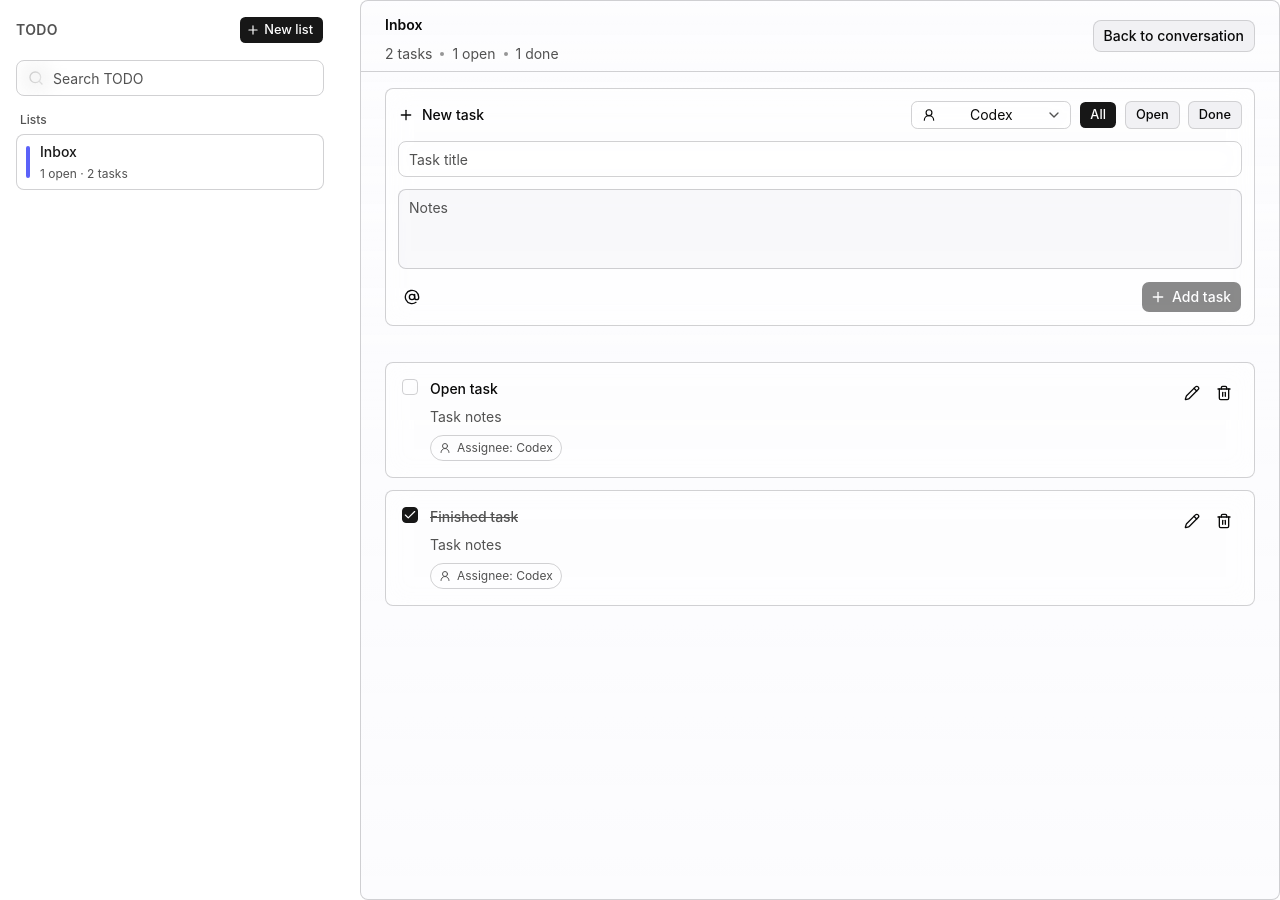
Test: workspace resources UI › creates, filters, and completes TODO items
In the field labelled "Task title": (820, 159) [398,141,1242,177], type "New task"
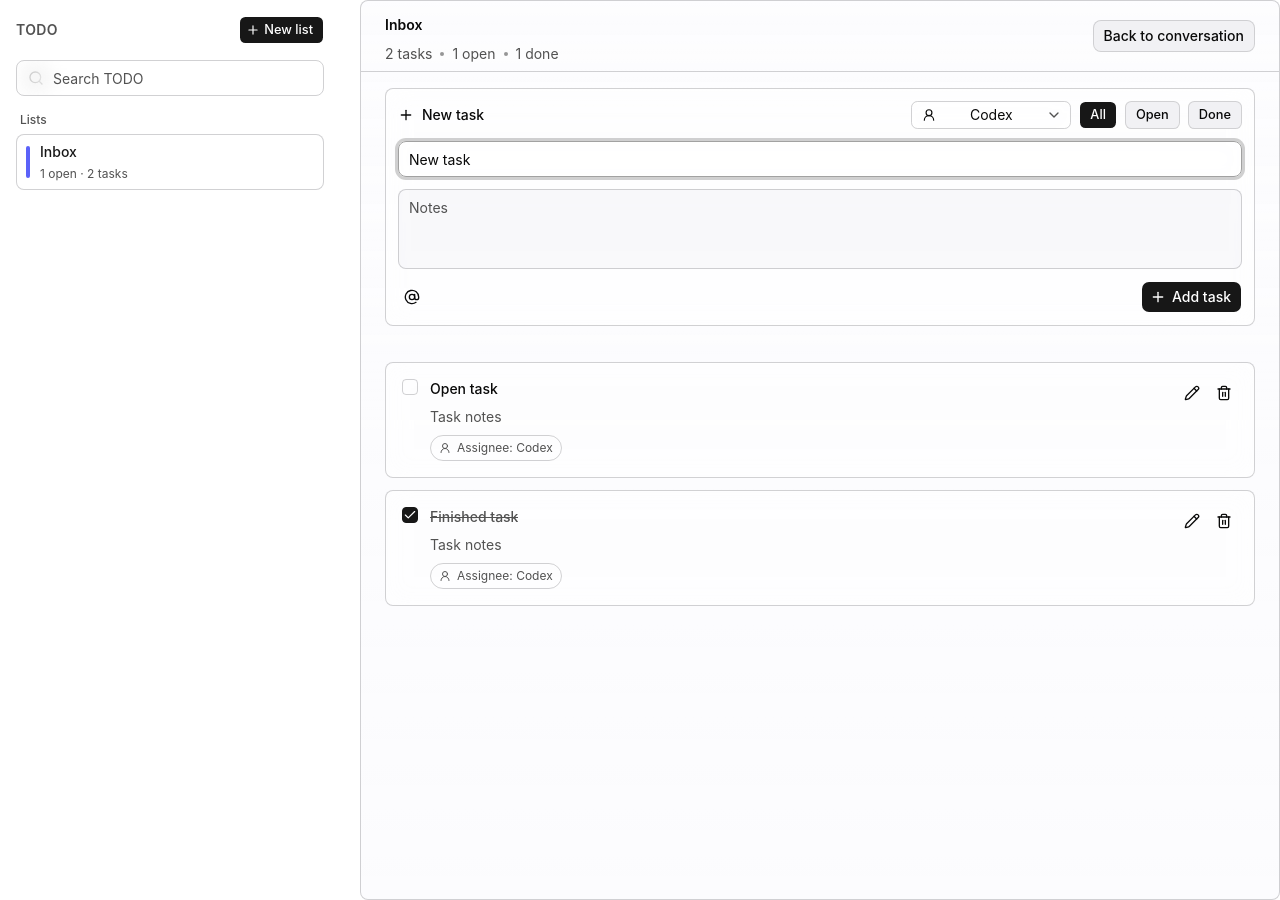
In the text box named "Task notes": (820, 229) [398,189,1242,269], type "New notes"
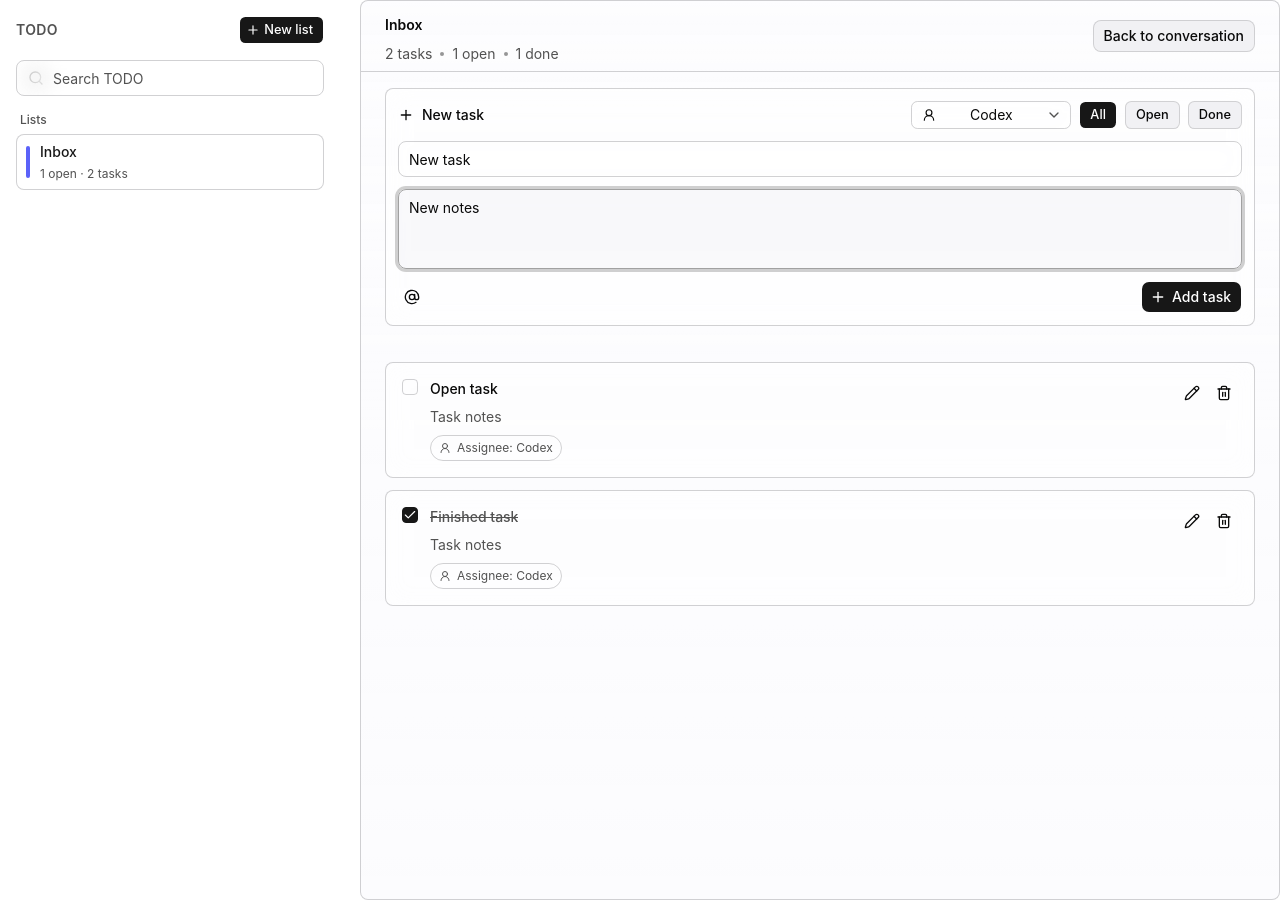
Click the button "Add task": (1192, 297) [1141,281,1242,313]
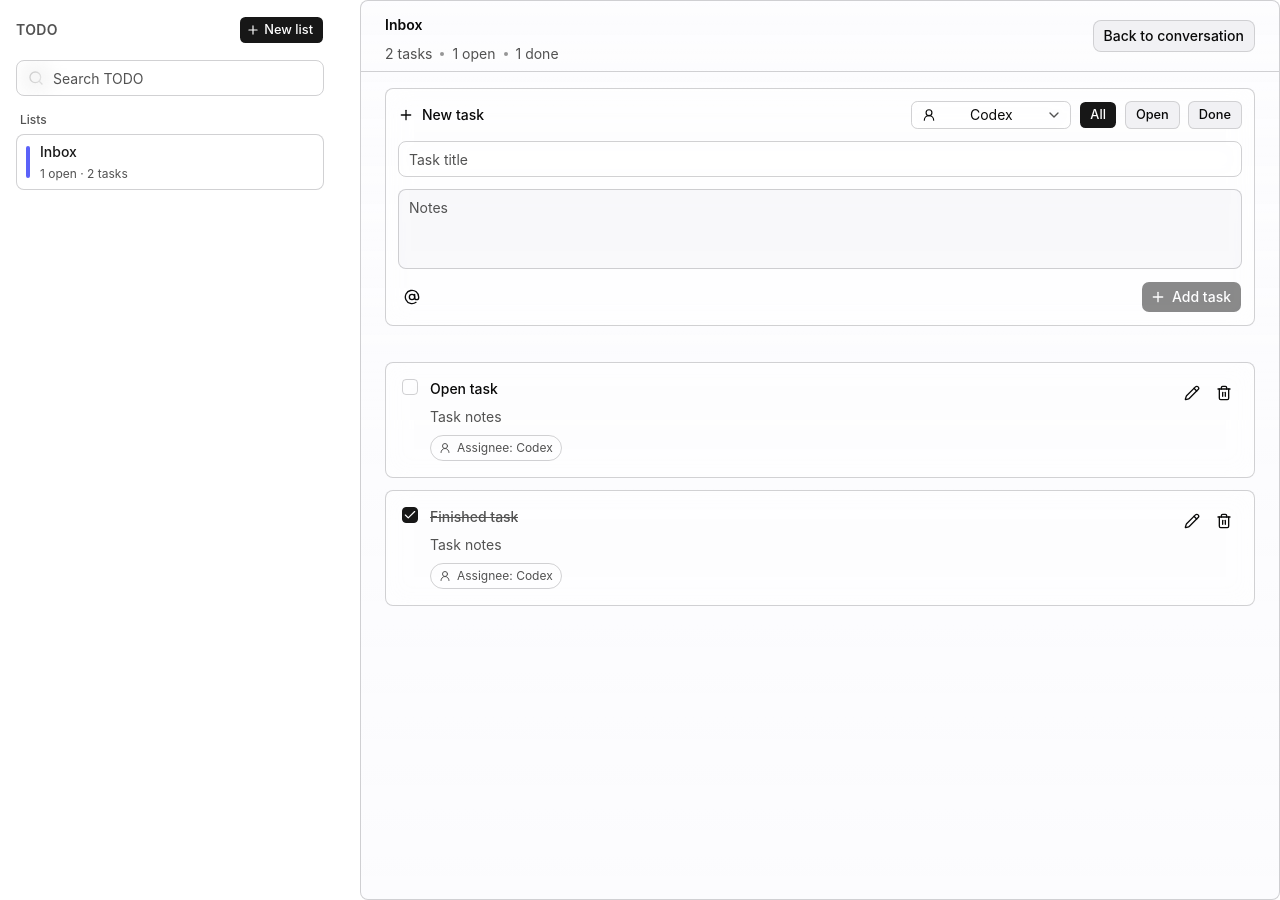
Click the checkbox named "Mark Open task complete": (410, 387) [402,379,418,395]
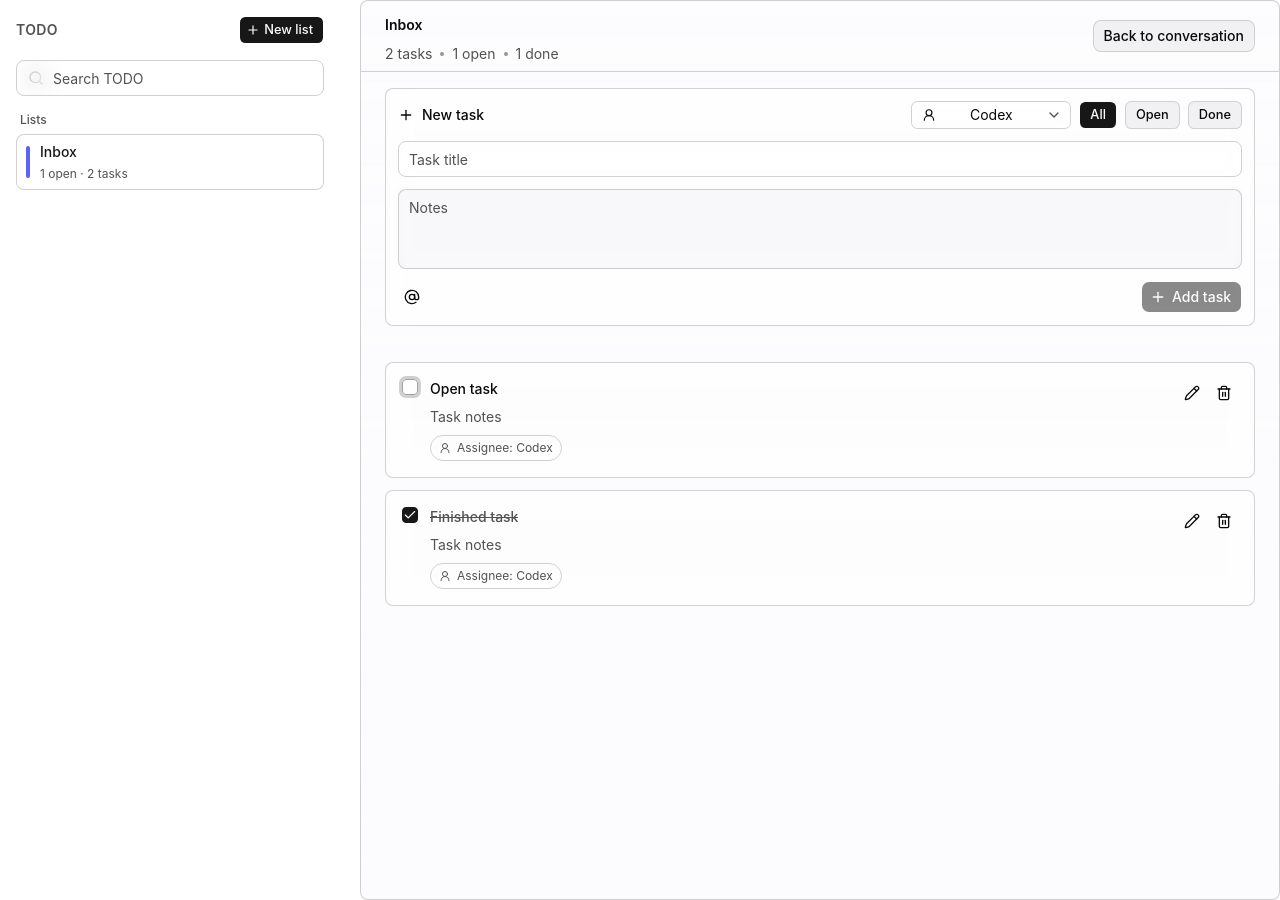
Click the button "Done": (1215, 115) [1188,101,1242,129]
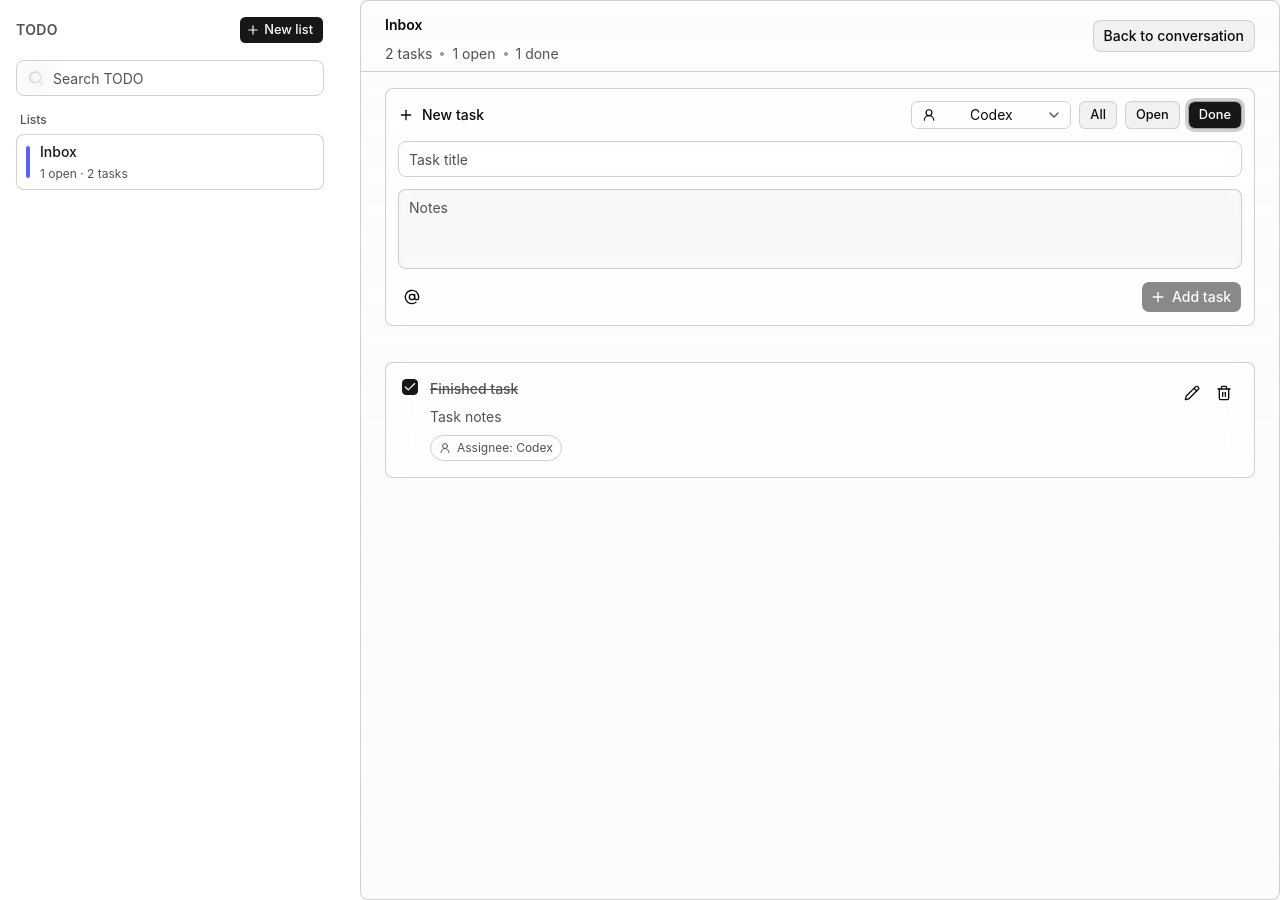
Expected: the heading "Finished task" is shown, [430,379,518,399]
Expected: the heading "Open task" is gone
